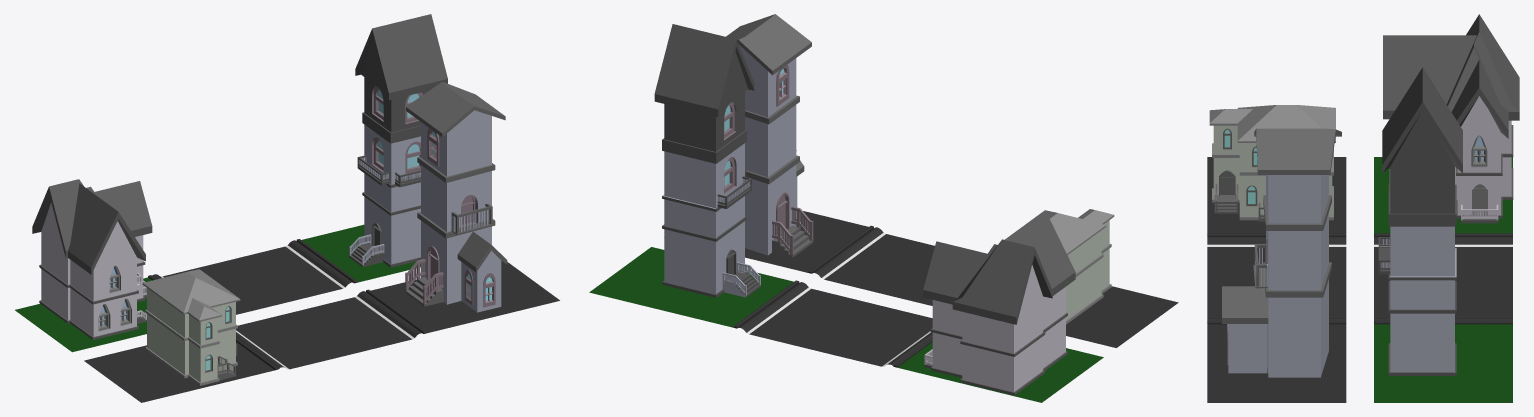
Rendered from cladir3i.fbx.
The picture shows the model from 3 angles, left to right: view 1: azimuth 30°, elevation 25°; view 2: azimuth 150°, elevation 25°; view 3: azimuth 270°, elevation 25°; orthographic projection. The views are drawn at different scales.
Visible parts, largest first — view 1: Stradatyle1, building_020, building_021, Cube, Stradatyle1.001, building_019, Cube.001; view 2: building_020, building_021, Stradatyle1.001, Cube, Stradatyle1, building_019; view 3: building_020, Cube, Stradatyle1.001, building_021, Stradatyle1, building_019, Cube.001.
Boxes of the visible parts, x1,y1,x2,y2 form: Stradatyle1: [84, 261, 559, 402]; building_020: [349, 14, 447, 267]; building_021: [32, 179, 152, 339]; Cube: [405, 82, 505, 306]; Stradatyle1.001: [15, 224, 420, 352]; building_019: [142, 269, 240, 385]; Cube.001: [457, 231, 507, 312]; building_020: [654, 24, 760, 297]; building_021: [923, 212, 1075, 395]; Stradatyle1.001: [589, 247, 1103, 402]; Cube: [726, 14, 813, 257]; Stradatyle1: [745, 211, 1178, 347]; building_019: [1004, 209, 1114, 324]; building_020: [1378, 67, 1462, 375]; Cube: [1253, 128, 1341, 377]; Stradatyle1.001: [1374, 157, 1512, 402]; building_021: [1383, 14, 1519, 223]; Stradatyle1: [1207, 157, 1346, 402]; building_019: [1209, 105, 1335, 221]; Cube.001: [1222, 286, 1268, 373].
Size of the model in its own units: 34.88 by 18.57 by 18.7.
